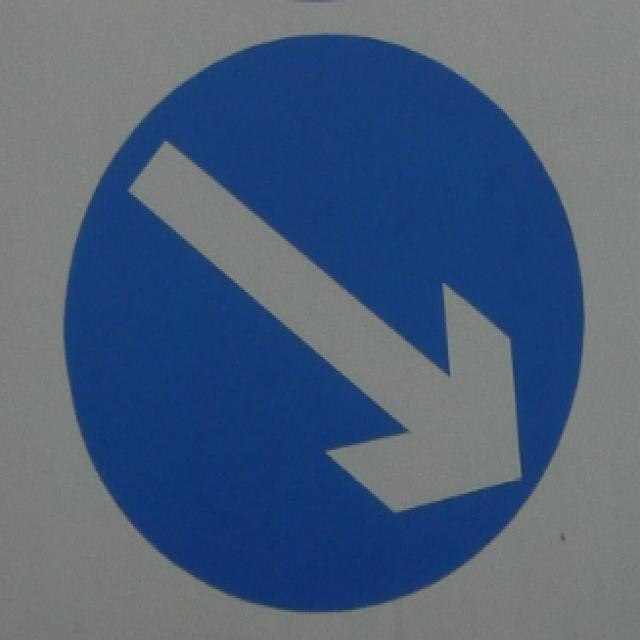Right: (68, 26, 596, 613)
